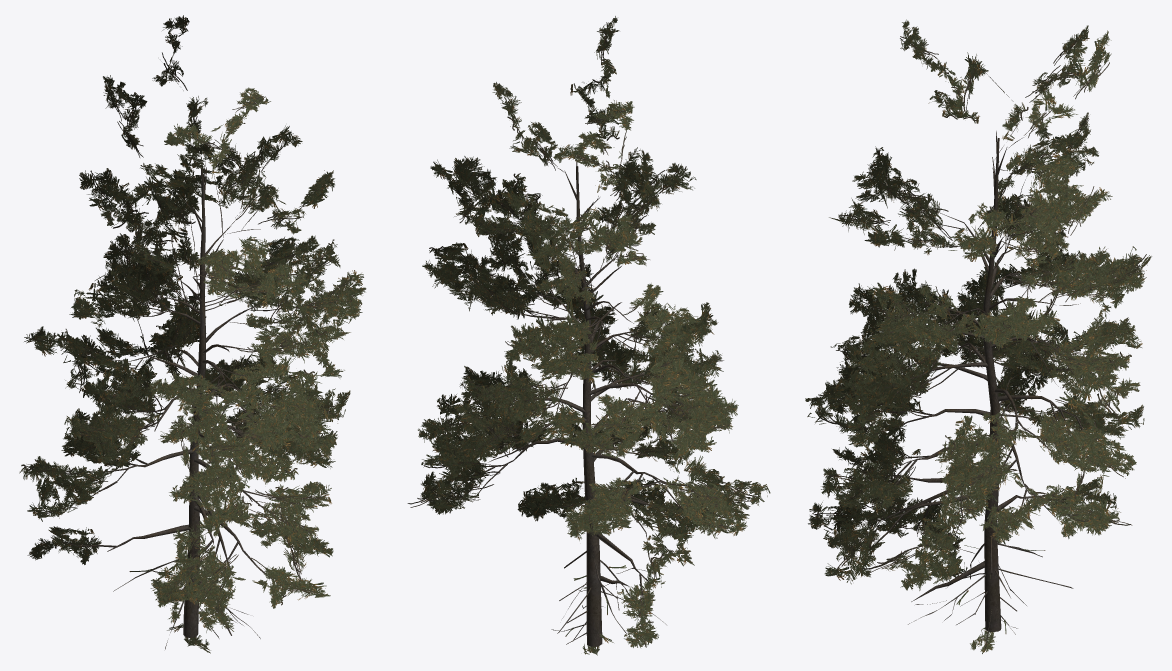
The picture shows the model from 3 angles, left to right: view 1: azimuth 30°, elevation 25°; view 2: azimuth 150°, elevation 25°; view 3: azimuth 270°, elevation 25°; orthographic projection. The views are drawn at different scales.
Parts seen in each view (by area): view 1: pine_sapling_medium__c_lod1; view 2: pine_sapling_medium__c_lod1; view 3: pine_sapling_medium__c_lod1.
Boxes of the visible parts, x1,y1,x2,y2 form: pine_sapling_medium__c_lod1: [19, 15, 366, 653]; pine_sapling_medium__c_lod1: [407, 16, 770, 655]; pine_sapling_medium__c_lod1: [805, 19, 1151, 653].
Size of the model in its own units: 3.91 by 7.07 by 3.57.
2 materials, 2 textured.
